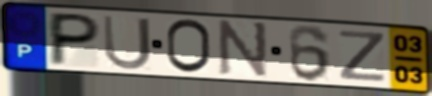6: (287, 23, 334, 84)
N: (216, 19, 270, 81)
O: (164, 17, 214, 76)
P: (46, 11, 104, 68)
U: (100, 13, 154, 72)
Z: (337, 28, 389, 84)
